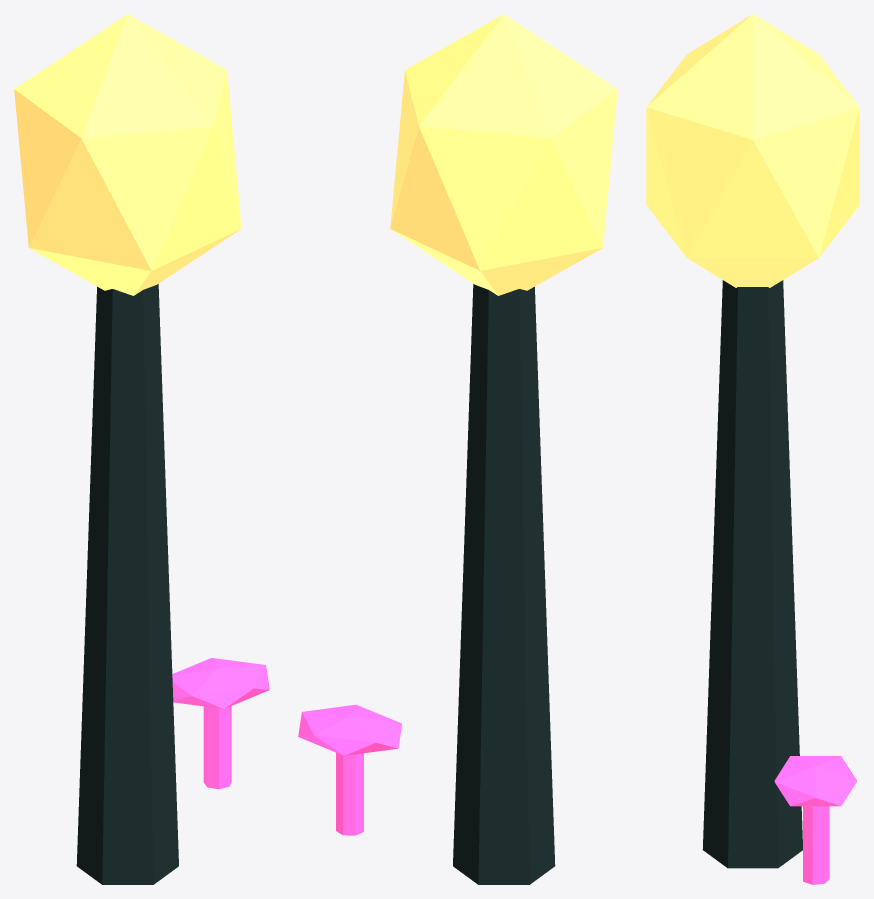
File: df_v2_torch_or_soul_light_a.glb
3 views of the same model, side by side, from view 1: azimuth 30°, elevation 25°; view 2: azimuth 150°, elevation 25°; view 3: azimuth 270°, elevation 25° (orthographic).
Parts seen in each view (by area): view 1: soul_light_post, soul_light_flame, torch_base_fungus_cap, torch_base_fungus_stem; view 2: soul_light_post, soul_light_flame, torch_base_fungus_cap, torch_base_fungus_stem; view 3: soul_light_post, soul_light_flame, torch_base_fungus_cap, torch_base_fungus_stem.
Part boxes in pixels (left/top/right/bottom): soul_light_post: left=76, top=284, right=178, bottom=884; soul_light_flame: left=14, top=14, right=241, bottom=295; torch_base_fungus_cap: left=172, top=658, right=269, bottom=708; torch_base_fungus_stem: left=203, top=706, right=231, bottom=789; soul_light_post: left=453, top=284, right=555, bottom=884; soul_light_flame: left=390, top=14, right=617, bottom=295; torch_base_fungus_cap: left=298, top=704, right=401, bottom=755; torch_base_fungus_stem: left=336, top=752, right=363, bottom=835; soul_light_post: left=702, top=280, right=802, bottom=868; soul_light_flame: left=646, top=14, right=859, bottom=287; torch_base_fungus_cap: left=774, top=756, right=856, bottom=806; torch_base_fungus_stem: left=803, top=806, right=829, bottom=884.
Bounding box in the file's own units: 0.486 × 1.47 × 0.3403.
